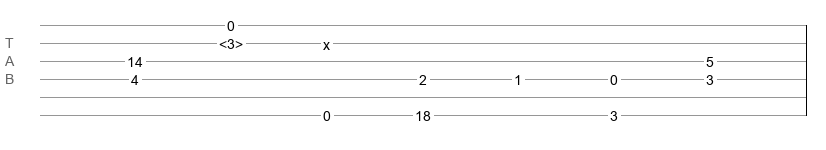0: (227, 18, 235, 28), (323, 108, 331, 118), (610, 72, 618, 82)
1: (514, 72, 522, 82)
14: (127, 54, 143, 64)
18: (415, 108, 431, 118)
2: (419, 72, 427, 82)
3: (610, 108, 618, 118), (706, 72, 714, 82)
4: (131, 72, 139, 82)
5: (706, 54, 714, 64)
harmonic: (219, 36, 243, 46)
x: (323, 37, 330, 45)
